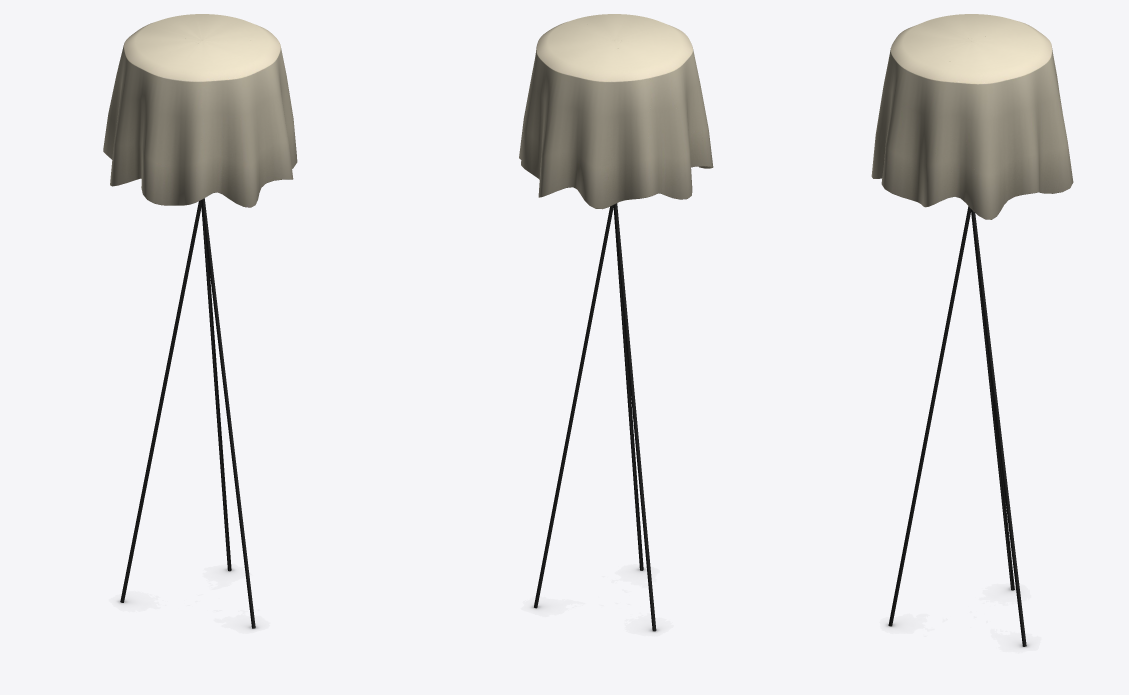
The model's file is lamp.glb.
3 renders of one model, left to right at view 1: azimuth 30°, elevation 25°; view 2: azimuth 150°, elevation 25°; view 3: azimuth 270°, elevation 25°, orthographic. The views are drawn at different scales.
Visible parts, largest first — view 1: studio__bed_Standing lamp__mesh; view 2: studio__bed_Standing lamp__mesh; view 3: studio__bed_Standing lamp__mesh.
Part boxes in pixels (<box>): studio__bed_Standing lamp__mesh: <box>103,14,297,628</box>; studio__bed_Standing lamp__mesh: <box>519,14,713,631</box>; studio__bed_Standing lamp__mesh: <box>871,14,1073,646</box>.
Size of the model in its own units: 0.8352 by 1.86 by 0.8268.
3 materials, 2 textured.
